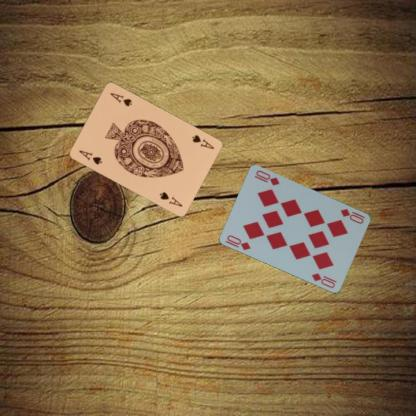10d: (338, 206, 367, 224), (225, 233, 252, 252)
As: (76, 147, 103, 166), (189, 132, 215, 151)
